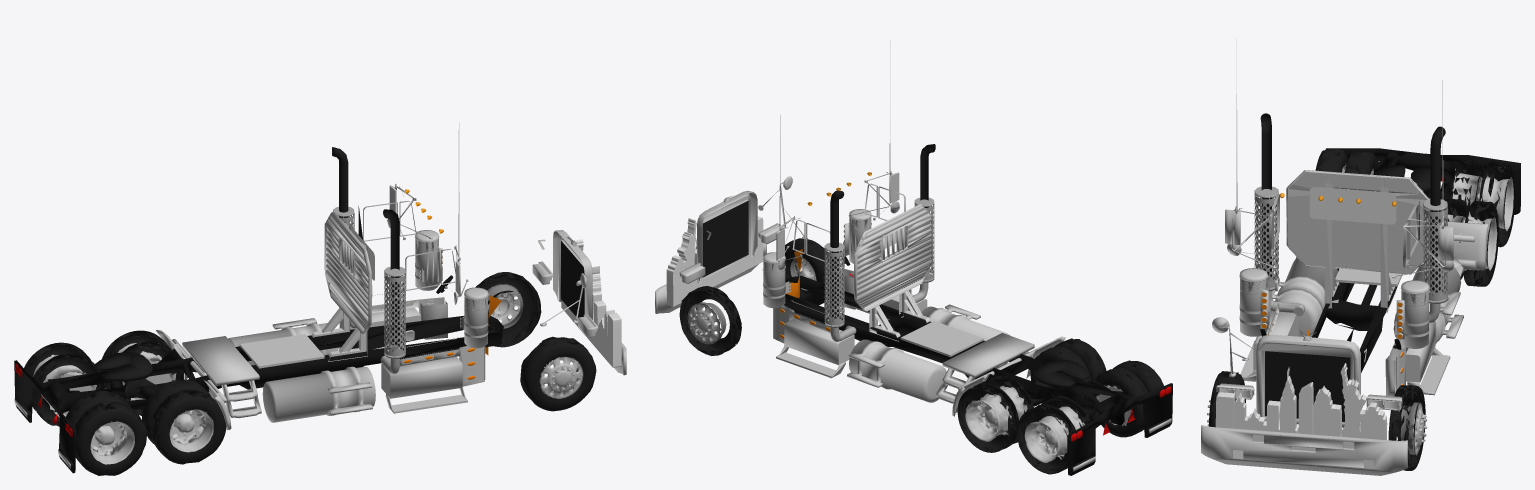
Rendered from LouneStar_McTruck2__SkinbarTextureCheck.gltf.
3 renders of one model, left to right at view 1: azimuth 30°, elevation 25°; view 2: azimuth 150°, elevation 25°; view 3: azimuth 270°, elevation 25°, orthographic. The views are drawn at different scales.
Visible parts, largest first — view 1: Daek, BackBone, Bezonftnake, BagTing, Metallics, Trin, MetalBag, NwedreVedTrin, UdtoedsningsCoolere, HeojhusTaender_afgraenset, Udstoedning, Bagplade (+3 smaller); view 2: Daek, BackBone, BagTing, Metallics, Bezonftnake, Trin, HeojhusTaender_afgraenset, MetalBag, UdtoedsningsCoolere, Udstoedning, Bagplade, Toende2 (+4 smaller); view 3: BagTing, Daek, Metallics, Metallics.001, BackBone, HeojhusTaender_afgraenset, Bezonftnake, UdtoedsningsCoolere, Udstoedning, Trin, Bagvindue, Toende2 (+6 smaller).
Boxes of the visible parts, x1,y1,x2,y2 form: Daek: [24, 272, 596, 475]; BackBone: [14, 295, 503, 473]; Bezonftnake: [228, 318, 375, 422]; BagTing: [311, 211, 372, 361]; Metallics: [387, 122, 592, 326]; Trin: [338, 307, 467, 413]; MetalBag: [182, 336, 261, 418]; NwedreVedTrin: [372, 297, 484, 386]; UdtoedsningsCoolere: [333, 206, 405, 358]; HeojhusTaender_afgraenset: [561, 239, 621, 367]; Udstoedning: [332, 147, 399, 373]; Bagplade: [239, 334, 324, 368]; Daek: [679, 238, 1163, 474]; BackBone: [784, 249, 1172, 475]; BagTing: [854, 204, 932, 341]; Metallics: [697, 39, 899, 283]; Bezonftnake: [847, 304, 1010, 402]; Trin: [776, 294, 927, 378]; HeojhusTaender_afgraenset: [666, 216, 763, 306]; MetalBag: [936, 333, 1034, 403]; UdtoedsningsCoolere: [824, 197, 934, 327]; Udstoedning: [830, 144, 935, 341]; Bagplade: [900, 321, 983, 356]; Toende2: [762, 252, 790, 308]; BagTing: [1286, 170, 1430, 312]; Daek: [1207, 148, 1515, 470]; Metallics: [1212, 38, 1454, 427]; Metallics.001: [1201, 425, 1407, 475]; BackBone: [1307, 148, 1520, 372]; HeojhusTaender_afgraenset: [1215, 363, 1387, 451]; Bezonftnake: [1272, 257, 1463, 343]; UdtoedsningsCoolere: [1254, 186, 1447, 303]; Udstoedning: [1260, 113, 1445, 322]; Trin: [1240, 310, 1450, 395]; Bagvindue: [1309, 187, 1396, 224]; Toende2: [1396, 280, 1429, 348].
Bounding box in the file's own units: 1.68 × 1.04 × 0.7766.
